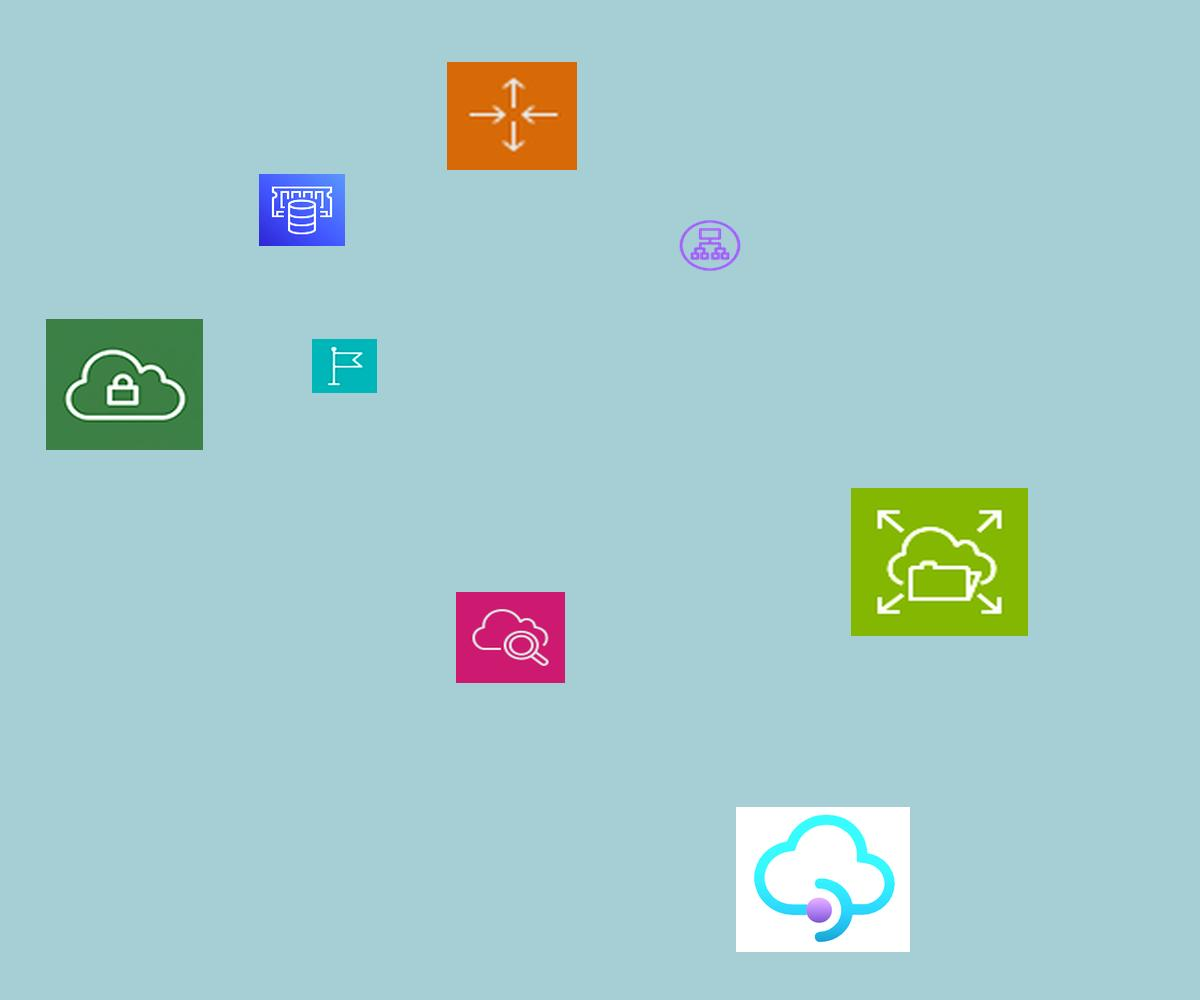AWS-CloudWatch: (456, 592, 565, 683)
AWS-EFS: (851, 488, 1028, 636)
AWS-ElastiCache: (259, 174, 345, 246)
AWS-Private_vpc: (46, 319, 203, 450)
AWS-Region: (312, 339, 377, 393)
AWS-Res_Elastic-Load-Balancing_Application-Load-Balancer: (677, 218, 743, 273)
AWS-Scaling-group: (447, 62, 577, 170)
Azure_api_gateway: (736, 807, 910, 952)
